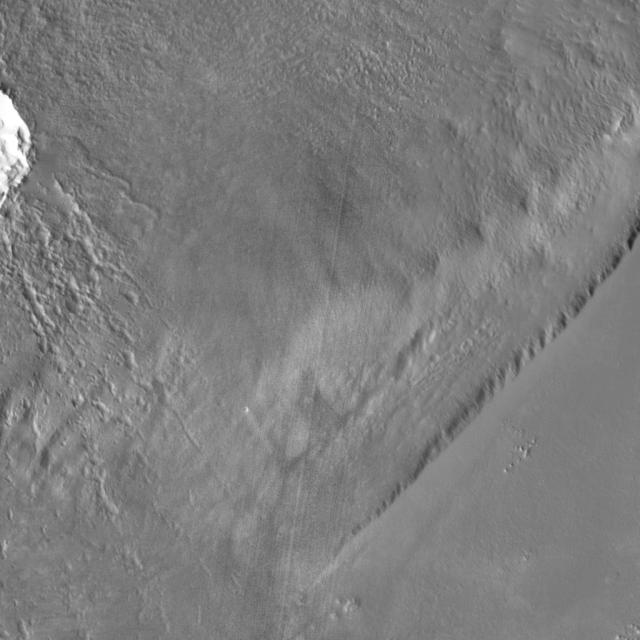crater: (73, 396, 84, 406), (430, 353, 440, 363)
